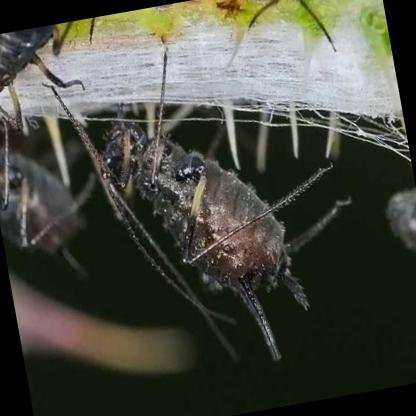uroleucon compositae: (97, 112, 309, 365)
